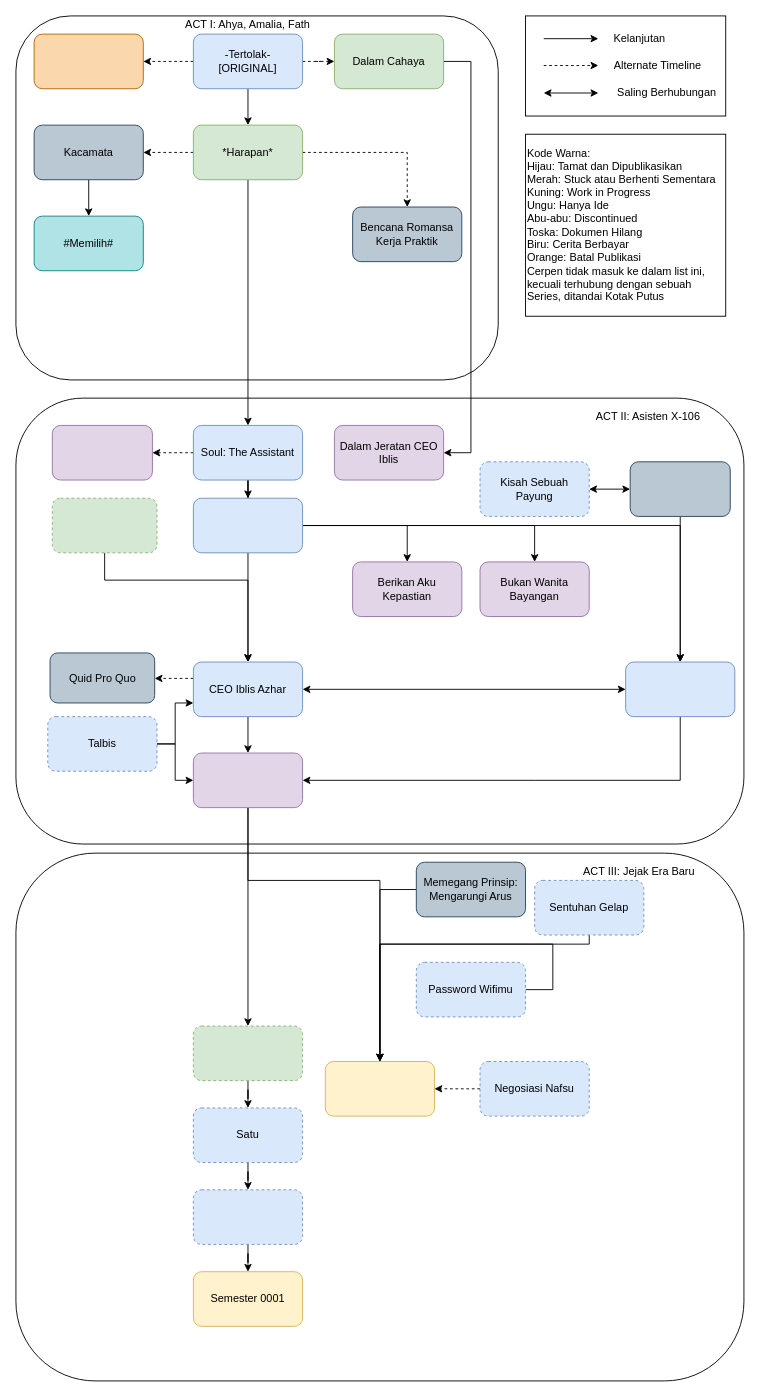
Some shapes in this 760 by 1397 pixel diagram are drawn without their labels. The shapes that lost their labels are listed below. From the top down, each one's centre as x and y in pixels, then its label:
At point (88, 61): "-Tertolak- [RED]".
At point (101, 452): "Menggenggam Asisten Dingin".
At point (679, 488): "A*".
At point (104, 525): "Twin Souls: 1 Love".
At point (247, 525): "Bulan di Darah Awan".
At point (680, 689): "Hati Biru Affa".
At point (247, 780): "Langkah Talbis".
At point (247, 1053): "Nol".
At point (379, 1088): "Akibat Satu Malam dengan Dosen".
At point (247, 1216): "Bukannya Itu Kita?".
